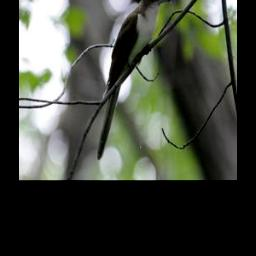Cuckoo: (94, 0, 171, 163)
